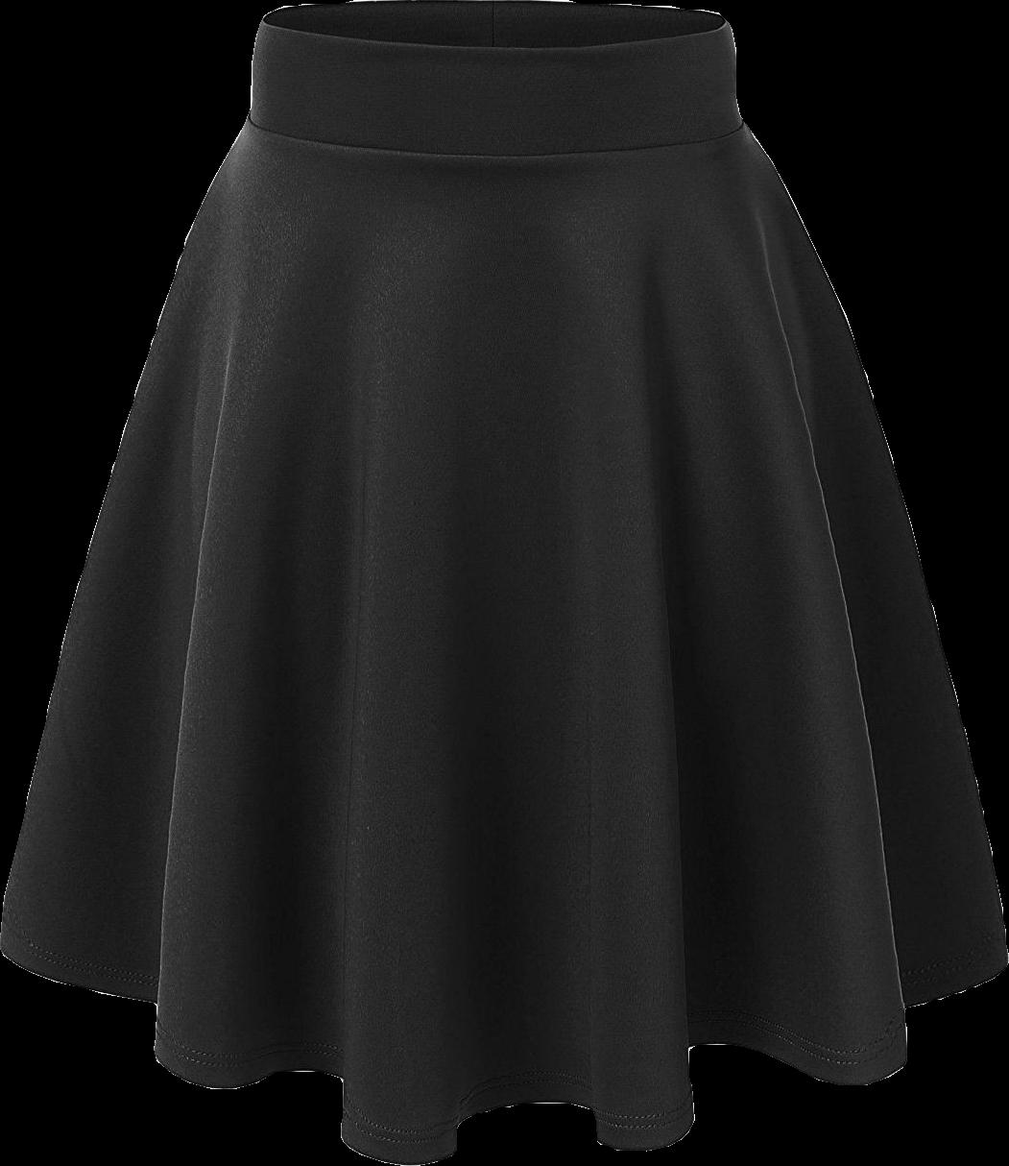Hemline: (0, 940, 1008, 1165)
Waistline: (241, 113, 748, 166), (256, 12, 732, 58)
